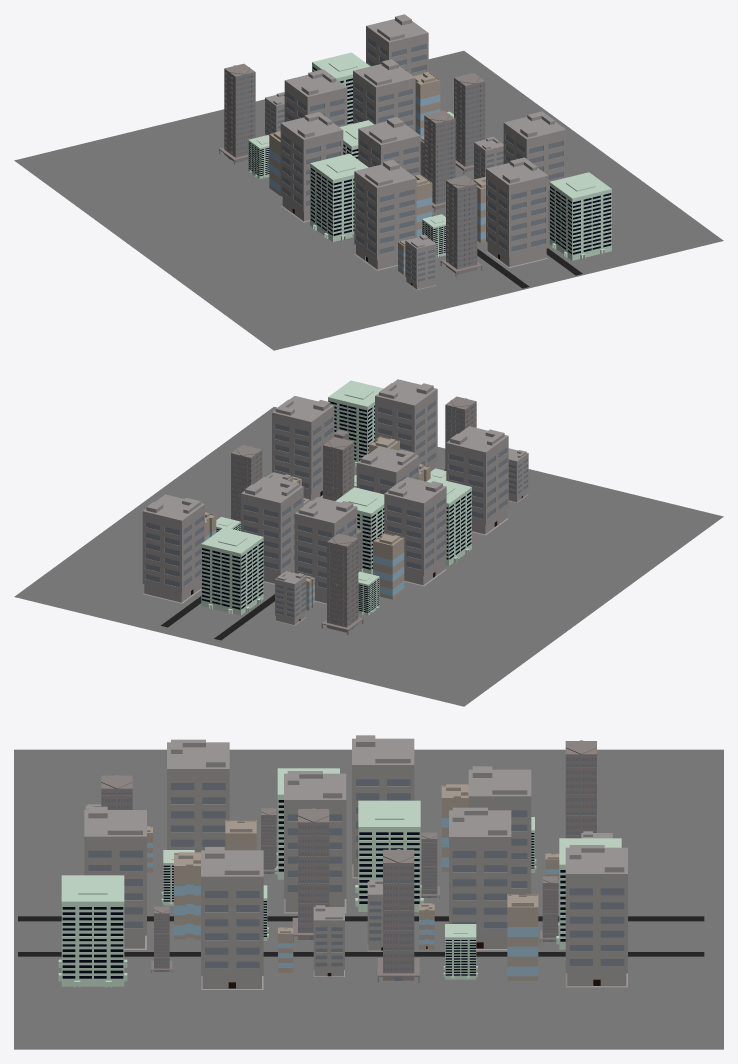
File: City.glb
3 views of the same model, one above another, from view 1: azimuth 30°, elevation 25°; view 2: azimuth 150°, elevation 25°; view 3: azimuth 270°, elevation 25° (orthographic). The views are drawn at different scales.
Visible parts, largest first — view 1: Plane, Cube.007, Cube.031, Cube.008, Cube.025, Cube.027, Cube.013, Cube.004, Cube.032, Cube.010, Cube.021, Cube.022 (+14 smaller); view 2: Plane, Cube.010, Cube.025, Cube.031, Cube.009, Cube.004, Cube.013, Cube.007, Cube.022, Cube.021, Cube.008, Cube.028 (+9 smaller); view 3: Plane, Cube.010, Cube.004, Cube.013, Cube.008, Cube.031, Cube.007, Cube.028, Cube.026, Cube.025, Cube.014, Cube.022 (+21 smaller).
Part boxes in pixels (<box>): Plane: <box>14,51,723,350</box>; Cube.007: <box>486,157,548,267</box>; Cube.031: <box>354,159,416,270</box>; Cube.008: <box>549,172,611,260</box>; Cube.025: <box>280,112,343,222</box>; Cube.027: <box>310,153,368,241</box>; Cube.013: <box>353,59,415,131</box>; Cube.004: <box>503,111,566,184</box>; Cube.032: <box>440,175,482,276</box>; Cube.010: <box>366,14,428,75</box>; Cube.021: <box>219,63,255,164</box>; Cube.022: <box>284,69,347,126</box>; Plane: <box>14,407,723,706</box>; Cube.010: <box>142,494,204,603</box>; Cube.025: <box>384,477,446,586</box>; Cube.031: <box>446,426,508,535</box>; Cube.009: <box>201,527,263,615</box>; Cube.004: <box>272,396,334,500</box>; Cube.013: <box>241,477,303,584</box>; Cube.007: <box>375,379,437,471</box>; Cube.022: <box>294,497,357,604</box>; Cube.021: <box>321,533,363,634</box>; Cube.008: <box>328,380,383,466</box>; Cube.028: <box>356,446,419,494</box>; Plane: <box>14,749,723,1049</box>; Cube.010: <box>565,845,627,987</box>; Cube.004: <box>201,847,263,989</box>; Cube.013: <box>449,807,511,950</box>; Cube.008: <box>58,875,127,987</box>; Cube.031: <box>167,739,229,852</box>; Cube.007: <box>84,806,146,949</box>; Cube.028: <box>284,771,346,913</box>; Cube.026: <box>355,800,423,911</box>; Cube.025: <box>352,735,414,878</box>; Cube.014: <box>377,849,419,982</box>; Cube.022: <box>468,766,531,895</box>.
Size of the model in its own units: 90.86 by 17.47 by 90.86.
